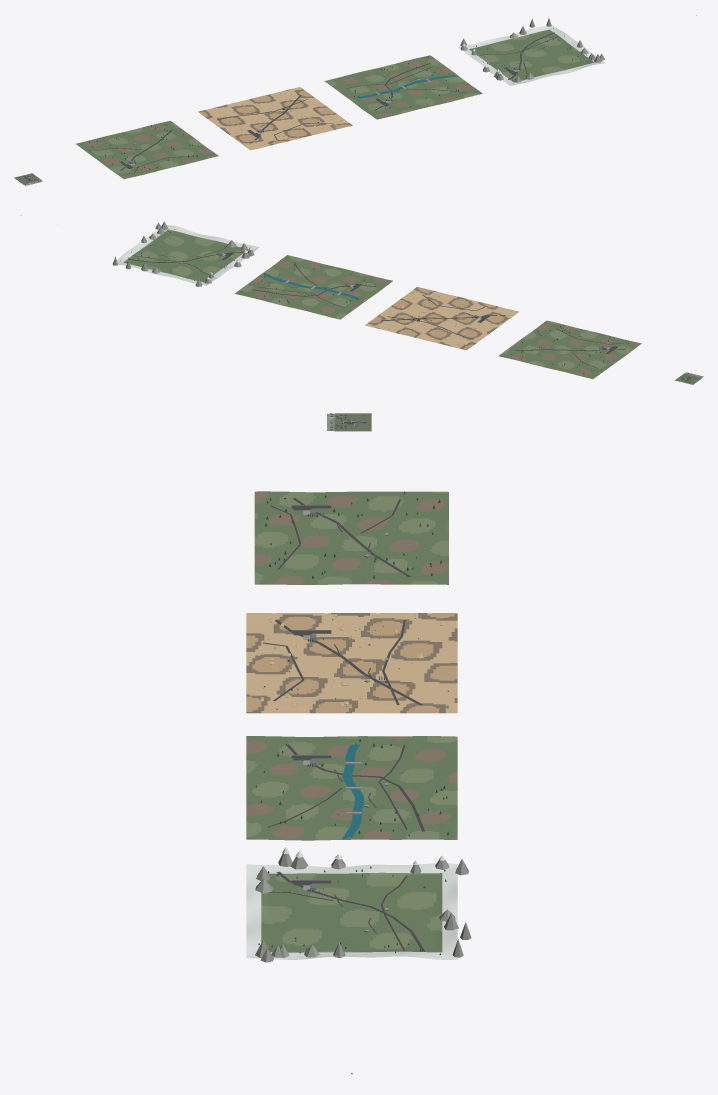
Rendered from combined-arms-r8.glb.
3 renders of one model, top to bottom at view 1: azimuth 30°, elevation 25°; view 2: azimuth 150°, elevation 25°; view 3: azimuth 270°, elevation 25°, orthographic. The views are drawn at different scales.
Parts seen in each view (by area): view 1: ENV_RIVER_CROSSING_TERRAIN, ENV_RED_BASIN_TERRAIN, ENV_ALPINE_PASS_TERRAIN, ENV_PINE_VALLEY_TERRAIN, ENV_ALPINE_PASS_BIOME_SCATTER, ENV_RIVER_CROSSING_ROAD_NETWORK, ENV_RED_BASIN_ROAD_NETWORK; view 2: ENV_RIVER_CROSSING_TERRAIN, ENV_RED_BASIN_TERRAIN, ENV_PINE_VALLEY_TERRAIN, ENV_ALPINE_PASS_TERRAIN, ENV_ALPINE_PASS_BIOME_SCATTER, ENV_RED_BASIN_ROAD_NETWORK, ENV_RIVER_CROSSING_ROAD_NETWORK, ENV_PINE_VALLEY_ROAD_NETWORK, ENV_ALPINE_PASS_ROAD_NETWORK; view 3: ENV_RIVER_CROSSING_TERRAIN, ENV_RED_BASIN_TERRAIN, ENV_ALPINE_PASS_TERRAIN, ENV_PINE_VALLEY_TERRAIN, ENV_ALPINE_PASS_BIOME_SCATTER, ENV_RED_BASIN_ROAD_NETWORK.
Part boxes in pixels (<box>): ENV_RIVER_CROSSING_TERRAIN: <box>324,55,482,119</box>; ENV_RED_BASIN_TERRAIN: <box>198,87,352,150</box>; ENV_ALPINE_PASS_TERRAIN: <box>458,25,605,85</box>; ENV_PINE_VALLEY_TERRAIN: <box>75,120,218,178</box>; ENV_ALPINE_PASS_BIOME_SCATTER: <box>460,18,604,82</box>; ENV_RIVER_CROSSING_ROAD_NETWORK: <box>346,63,464,110</box>; ENV_RED_BASIN_ROAD_NETWORK: <box>218,95,333,143</box>; ENV_RIVER_CROSSING_TERRAIN: <box>235,255,392,319</box>; ENV_RED_BASIN_TERRAIN: <box>364,287,518,350</box>; ENV_PINE_VALLEY_TERRAIN: <box>498,320,641,379</box>; ENV_ALPINE_PASS_TERRAIN: <box>112,225,259,285</box>; ENV_ALPINE_PASS_BIOME_SCATTER: <box>113,221,254,286</box>; ENV_RED_BASIN_ROAD_NETWORK: <box>381,294,504,338</box>; ENV_RIVER_CROSSING_ROAD_NETWORK: <box>251,262,375,307</box>; ENV_PINE_VALLEY_ROAD_NETWORK: <box>515,328,625,368</box>; ENV_ALPINE_PASS_ROAD_NETWORK: <box>128,245,243,275</box>; ENV_RIVER_CROSSING_TERRAIN: <box>246,736,457,840</box>; ENV_RED_BASIN_TERRAIN: <box>246,613,457,713</box>; ENV_ALPINE_PASS_TERRAIN: <box>246,863,457,959</box>; ENV_PINE_VALLEY_TERRAIN: <box>254,491,448,584</box>; ENV_ALPINE_PASS_BIOME_SCATTER: <box>255,847,471,962</box>; ENV_RED_BASIN_ROAD_NETWORK: <box>263,619,422,705</box>.
Size of the model in its own units: 3740 by 53.66 by 533.
